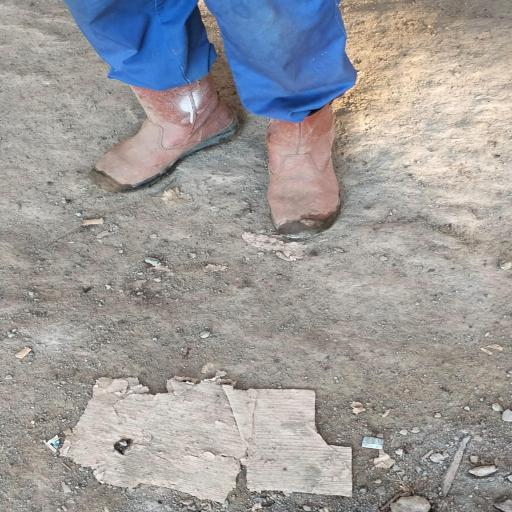safety_shoe: (90, 74, 238, 188), (260, 101, 344, 238)
